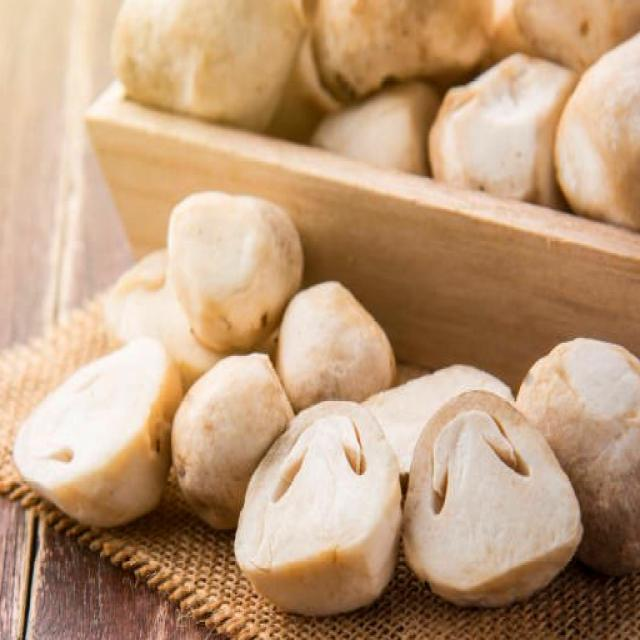Mushroom: (402, 389, 582, 601), (235, 398, 402, 608), (19, 344, 182, 518), (167, 188, 304, 357)
